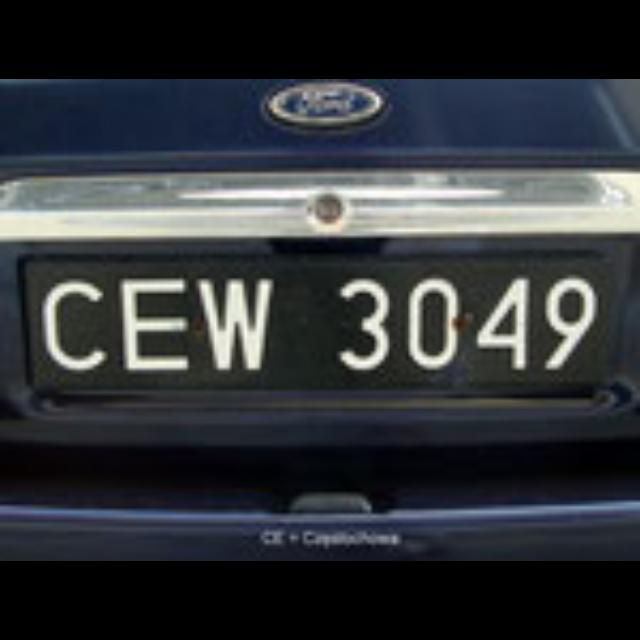pl_license_plate: (26, 258, 606, 390)
